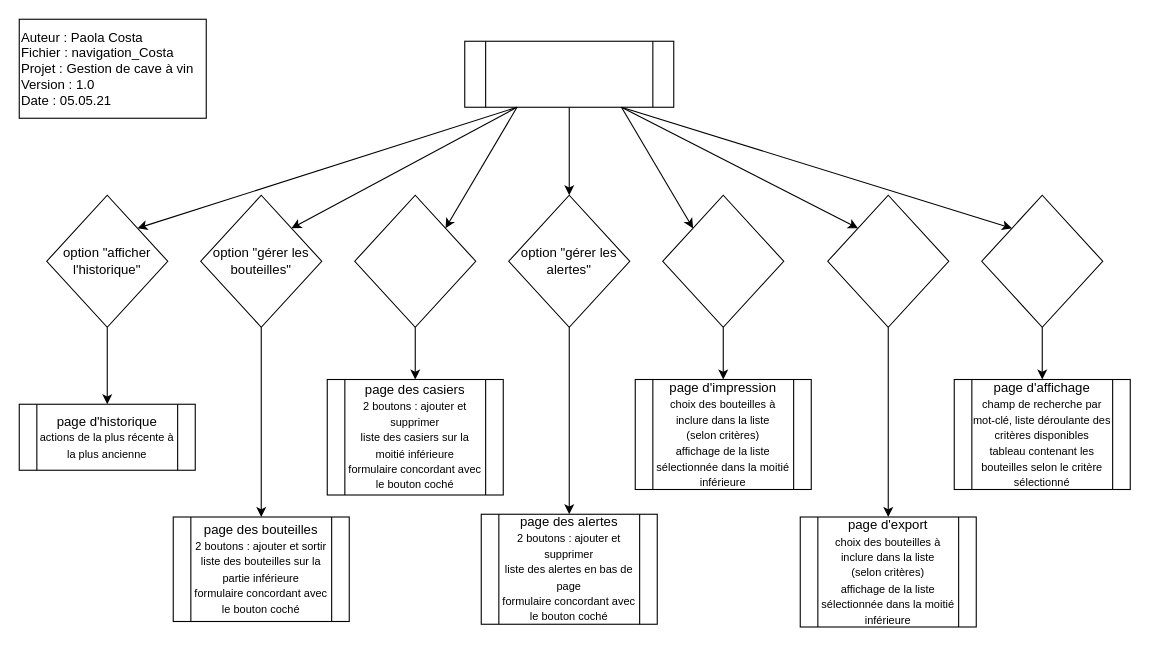
The diagram is 1150 pixels wide and 647 high, and some of its shapes have lost their labels. Each missing label, with the centre of its shape:
option "exporter en PDF": the point at 888,260
option "gérer les casiers": the point at 415,260
option "imprimer": the point at 723,260
option "rechercher": the point at 1042,260
page d'accueil: the point at 569,73
